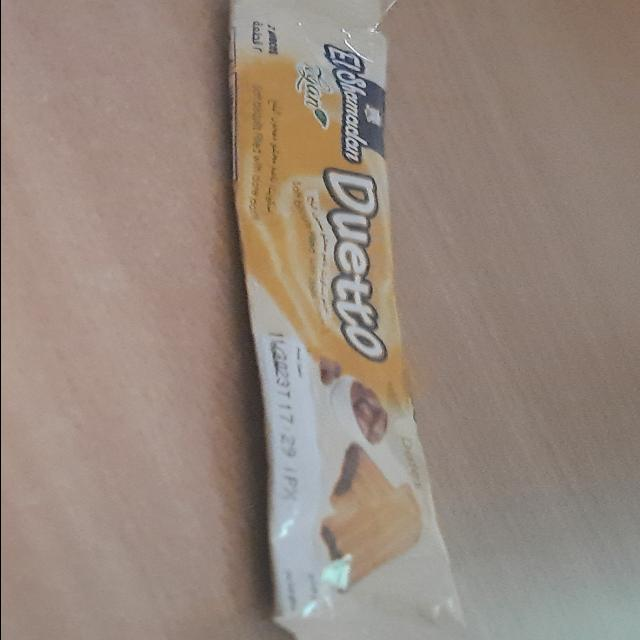plastic: (223, 0, 472, 640)
